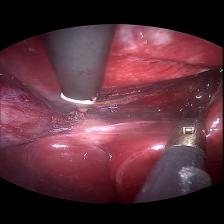Grasper: (170, 100, 216, 146)
Hook: (58, 92, 108, 112)
